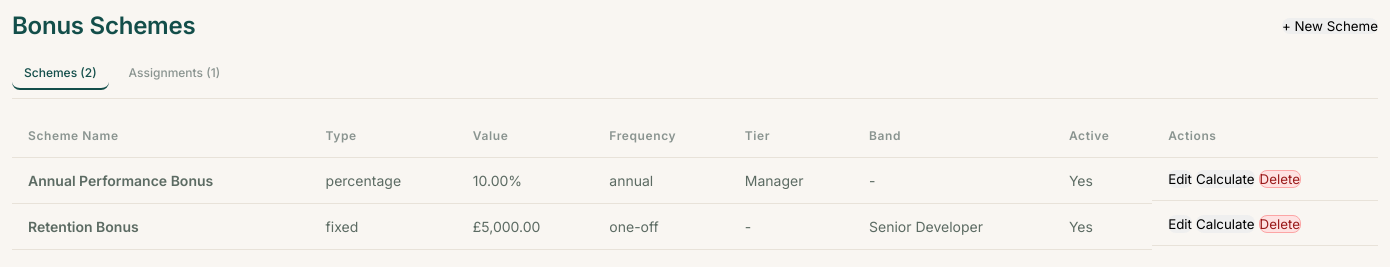
BonusSchemeManager › renders assignments tab
The image size is (1390, 267).
Click the button "Assignments (1)": (174,73) [117, 57, 232, 90]
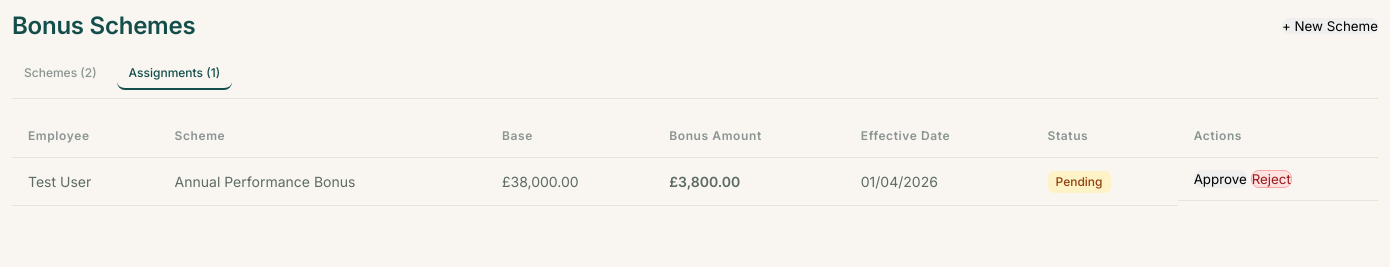
Check: the text "Test User" is shown, box [12, 157, 158, 205]
Check: the text "pending" is shown, box [1048, 171, 1110, 193]
